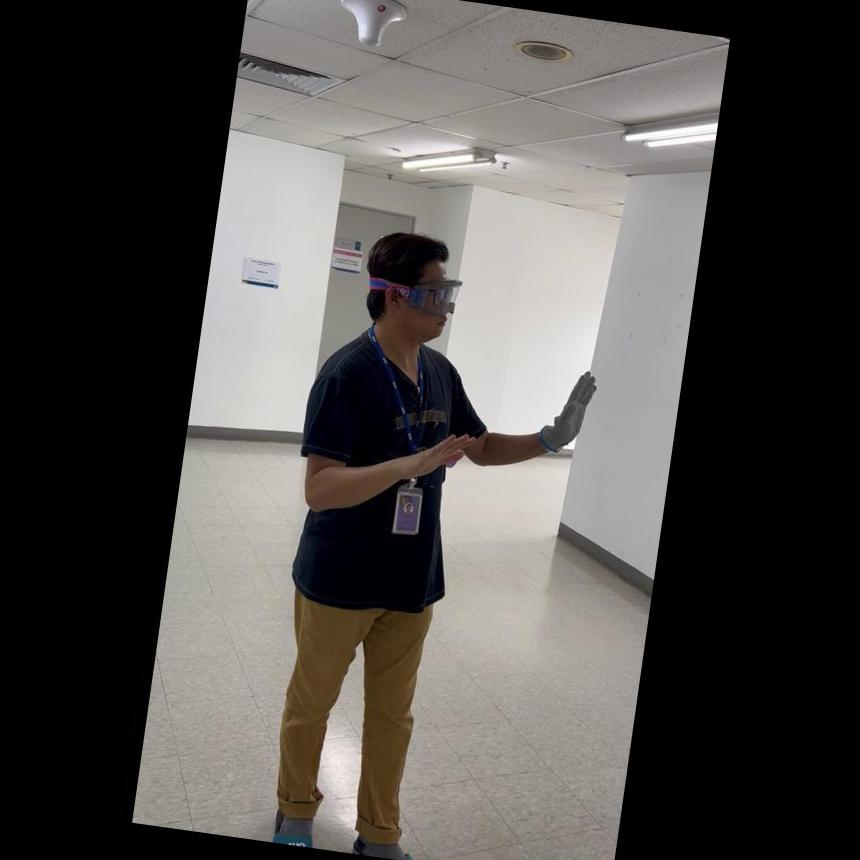Gloves: (532, 358, 600, 456)
No-gloves: (396, 412, 482, 492)
